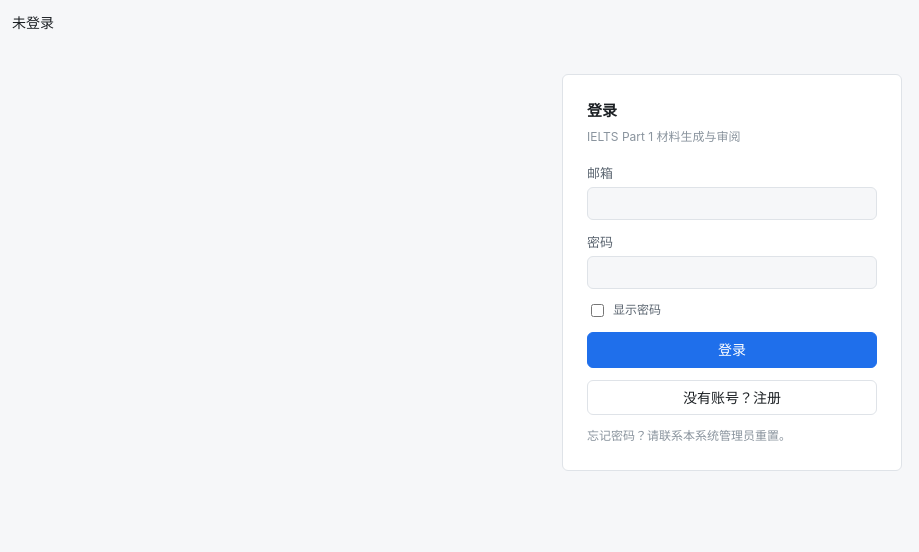
Test: login › renders bad credentials as a Chinese sentence, never a raw code
Expected: the button "登录" is shown, 587,332 -> 877,368
In the field labelled "邮箱": (732, 203) 587,187 -> 877,220, type "a@amazon.com"
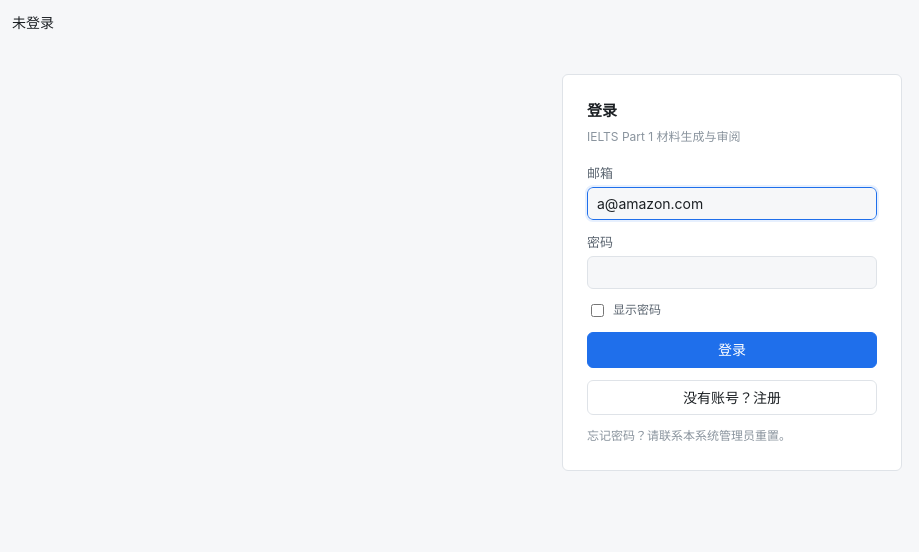
In the password field labelled "密码": (732, 272) 587,256 -> 877,289, type "wrong-password"
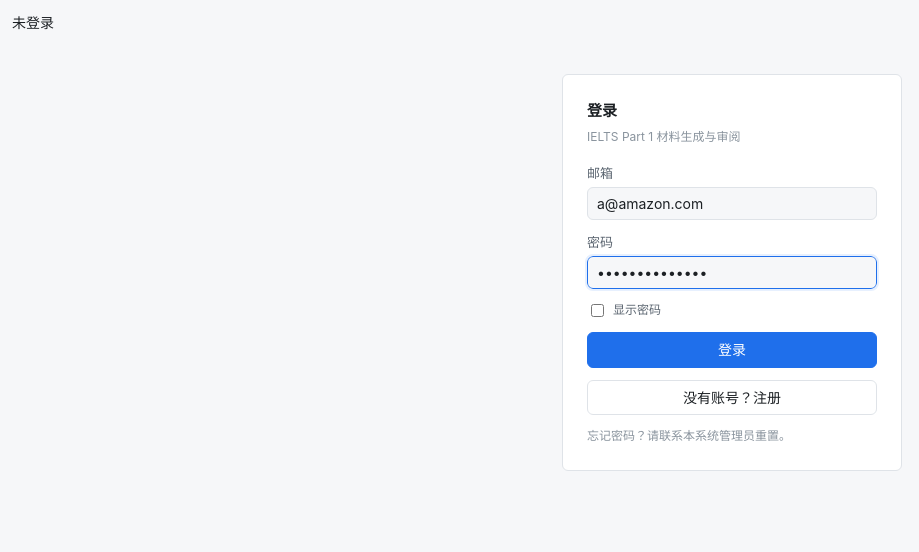
Click the button "登录": (732, 350) 587,332 -> 877,368
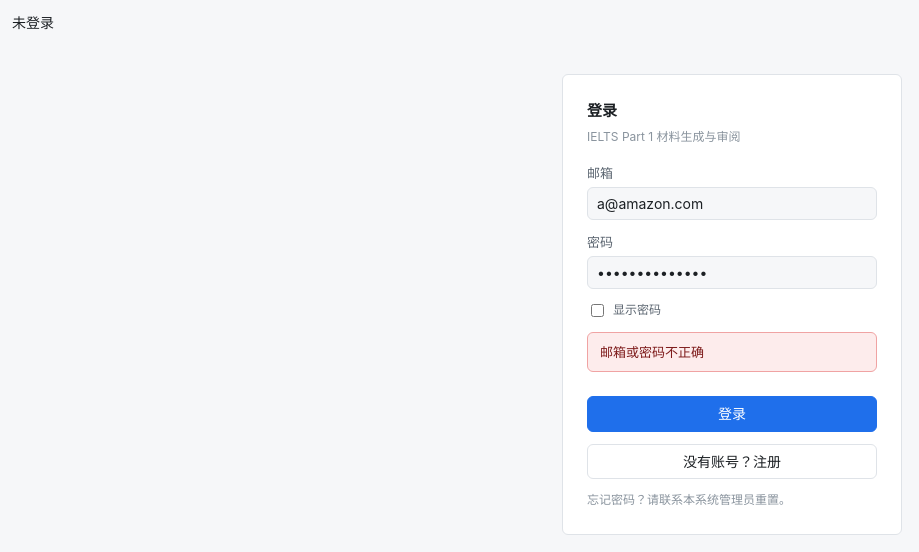
Expected: the message reads "邮箱或密码不正确", 600,344 -> 704,360
